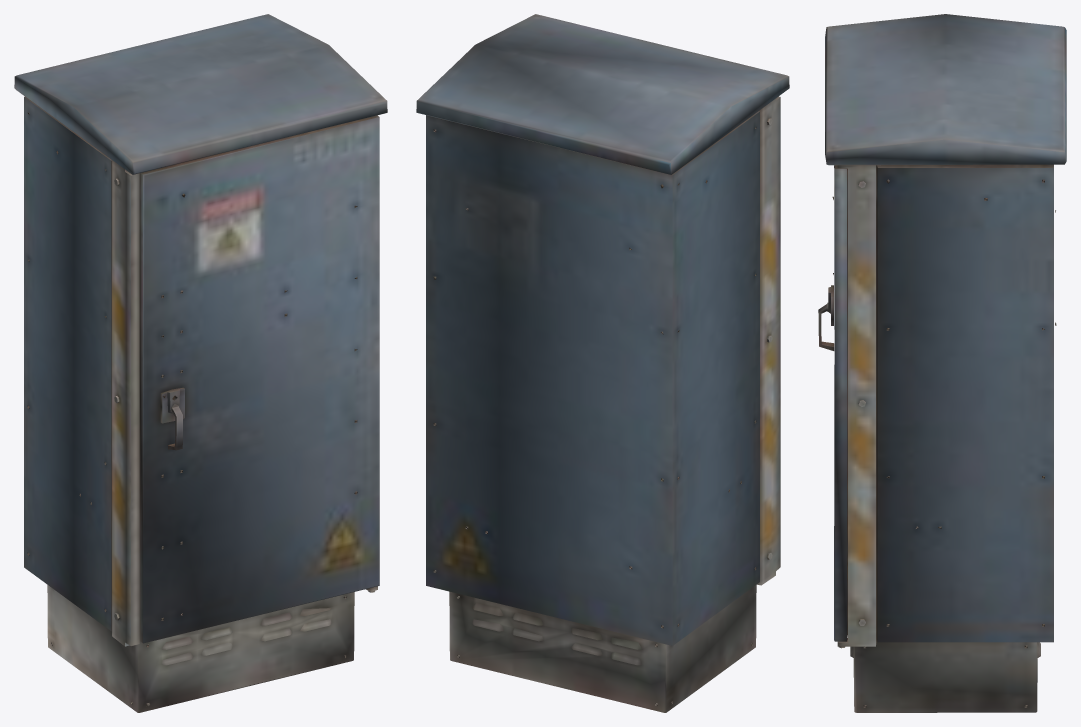
The model's file is utility_box_01.glb.
3 views of the same model, side by side, from view 1: azimuth 30°, elevation 25°; view 2: azimuth 150°, elevation 25°; view 3: azimuth 270°, elevation 25° (orthographic).
Parts seen in each view (by area): view 1: utility_box_01_box; view 2: utility_box_01_box; view 3: utility_box_01_box.
Boxes of the visible parts, x1=… form: utility_box_01_box: x1=14, y1=14, x2=387, y2=712; utility_box_01_box: x1=416, y1=14, x2=789, y2=712; utility_box_01_box: x1=818, y1=14, x2=1066, y2=712.
Bounding box in the file's own units: 0.5165 × 1.12 × 0.4312.
Materials: 1 (1 with a texture image).
